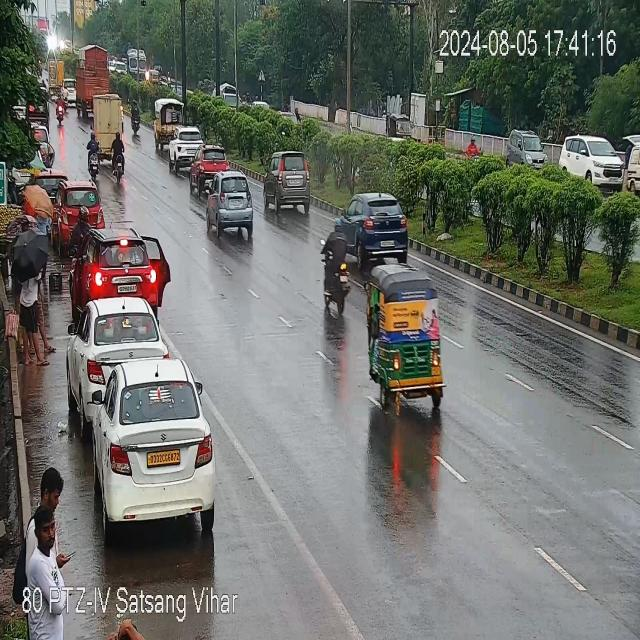2-wheelers: (323, 228, 356, 318), (68, 203, 93, 257), (85, 129, 101, 185), (110, 133, 126, 182), (132, 96, 144, 138), (56, 94, 63, 126)
auto: (363, 259, 453, 412), (156, 100, 184, 150)
car: (90, 360, 213, 532), (71, 302, 164, 412), (86, 226, 166, 304), (339, 192, 410, 268), (557, 132, 626, 192), (205, 172, 257, 240), (264, 151, 312, 214), (62, 184, 110, 239), (190, 145, 233, 193), (502, 129, 556, 166), (169, 125, 206, 167)
pedestrian: (16, 459, 81, 640), (17, 239, 39, 375), (38, 240, 58, 362)
truck: (73, 33, 111, 116), (86, 94, 128, 160), (127, 46, 146, 85)
